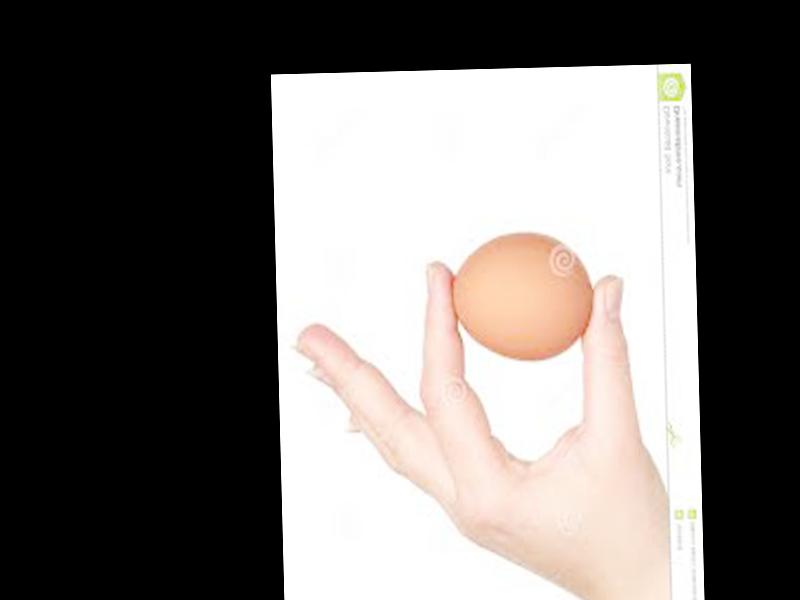Eggs: (450, 229, 596, 365)
